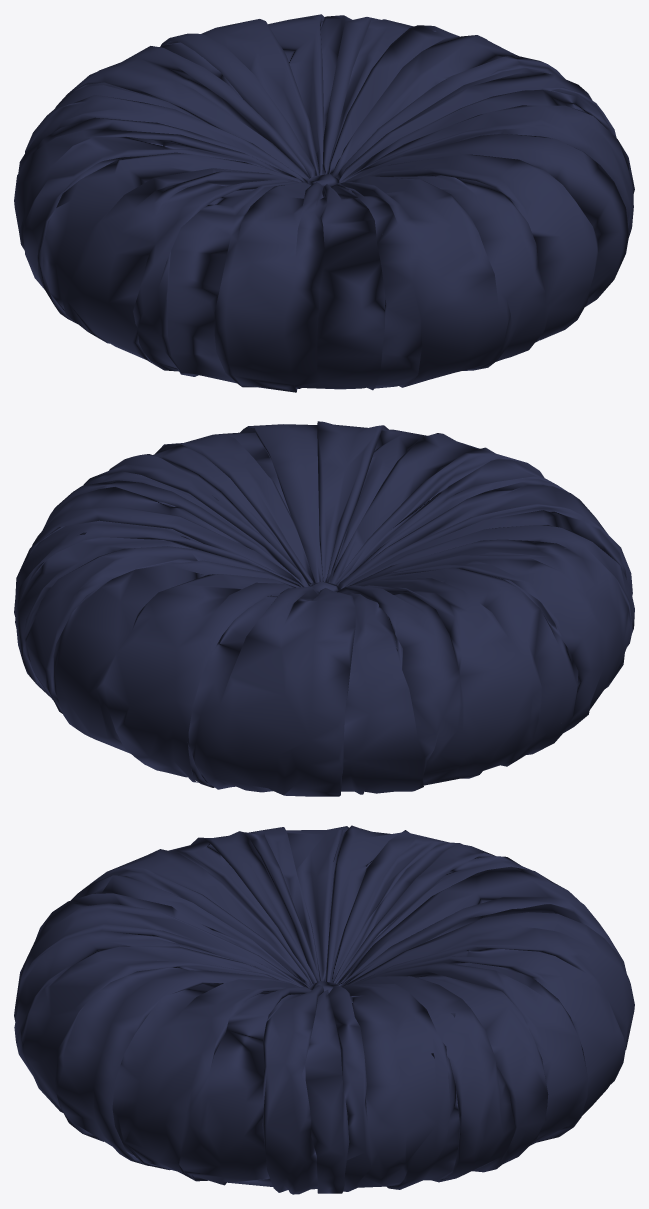
The model's file is silk_pouf.lod1.glb.
3 renders of one model, top to bottom at view 1: azimuth 30°, elevation 25°; view 2: azimuth 150°, elevation 25°; view 3: azimuth 270°, elevation 25°, orthographic.
Parts seen in each view (by area): view 1: SpecularSilkPouf; view 2: SpecularSilkPouf; view 3: SpecularSilkPouf.
Part boxes in pixels (x1=…): SpecularSilkPouf: x1=14, y1=14, x2=634, y2=392; SpecularSilkPouf: x1=14, y1=421, x2=634, y2=796; SpecularSilkPouf: x1=14, y1=825, x2=634, y2=1194.
Size of the model in its own units: 0.6088 by 0.1968 by 0.6098.
